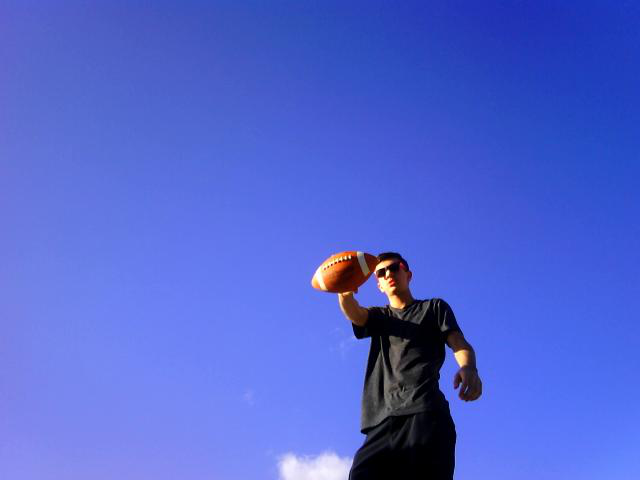football: (307, 246, 377, 298)
